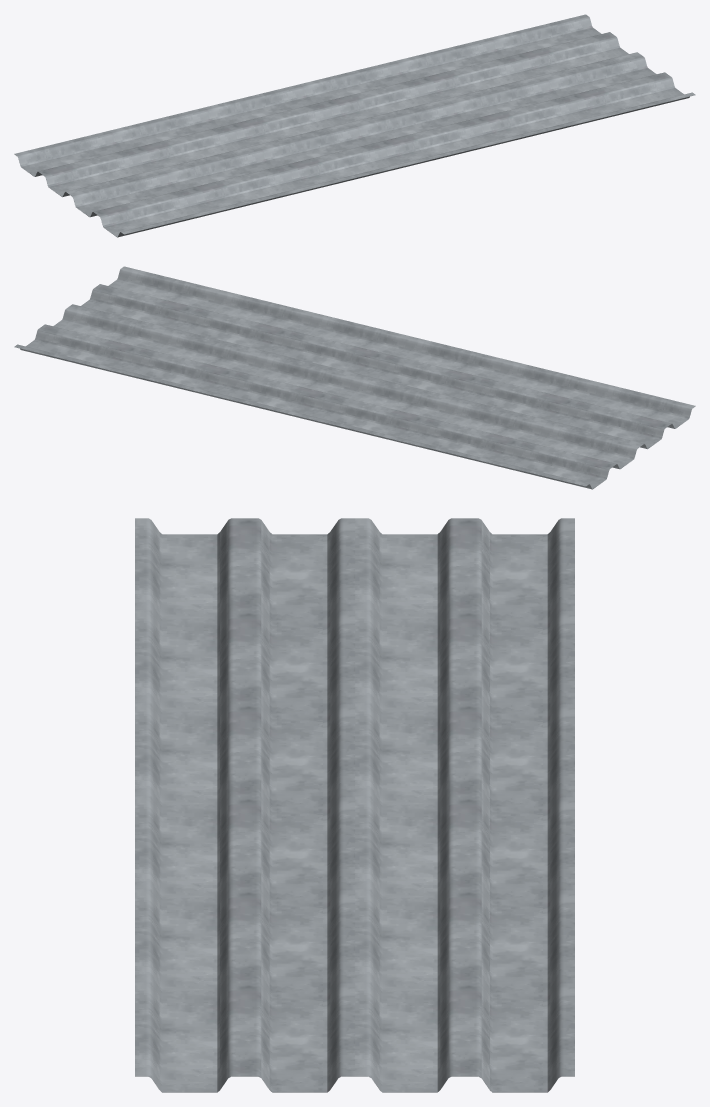
File: COB-MTL-001_lod1.glb
3 renders of one model, top to bottom at view 1: azimuth 30°, elevation 25°; view 2: azimuth 150°, elevation 25°; view 3: azimuth 270°, elevation 25°, orthographic. The views are drawn at different scales.
Visible parts, largest first — view 1: COB-MTL-001_chapa; view 2: COB-MTL-001_chapa; view 3: COB-MTL-001_chapa.
Boxes of the visible parts, left/top/right/bottom form: COB-MTL-001_chapa: left=14, top=14, right=695, bottom=237; COB-MTL-001_chapa: left=14, top=266, right=695, bottom=489; COB-MTL-001_chapa: left=135, top=518, right=574, bottom=1092.
Bounding box in the file's own units: 3 × 0.0407 × 1.
1 material, 1 textured.
